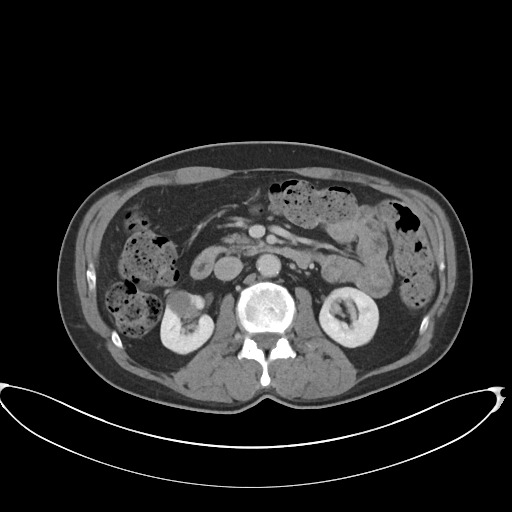Lesion: (161, 284, 197, 322)
